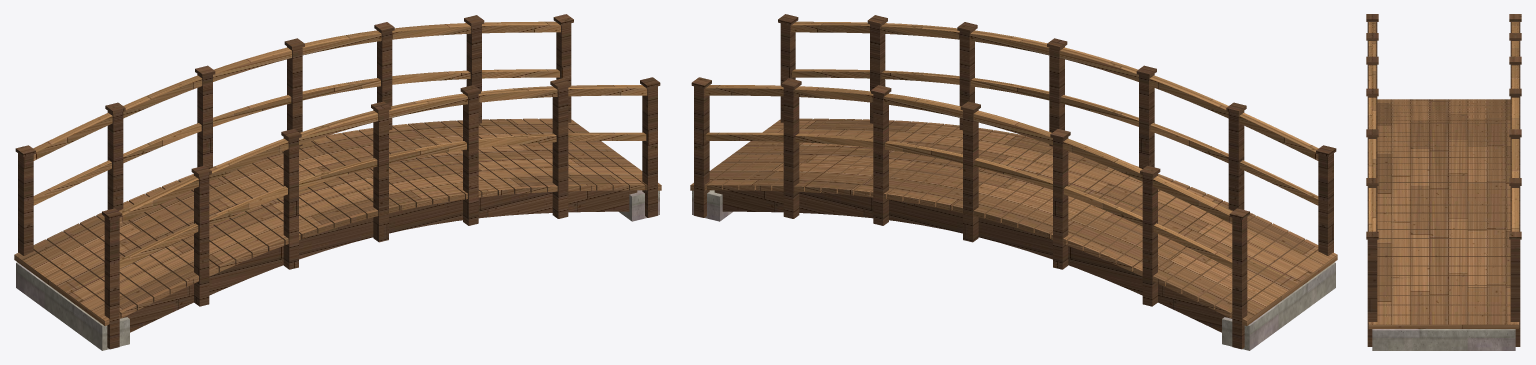
File: bridge.glb
The picture shows the model from 3 angles, left to right: view 1: azimuth 30°, elevation 25°; view 2: azimuth 150°, elevation 25°; view 3: azimuth 270°, elevation 25°; orthographic projection. The views are drawn at different scales.
Parts seen in each view (by area): view 1: bridge_deck, bridge_dkwood, bridge_wood, bridge_stone; view 2: bridge_deck, bridge_dkwood, bridge_wood, bridge_stone; view 3: bridge_deck, bridge_dkwood, bridge_stone, bridge_wood.
Boxes of the visible parts, x1=… form: bridge_deck: x1=14, y1=118, x2=661, y2=325; bridge_dkwood: x1=15, y1=14, x2=660, y2=349; bridge_wood: x1=33, y1=21, x2=647, y2=268; bridge_stone: x1=16, y1=190, x2=659, y2=350; bridge_deck: x1=690, y1=118, x2=1337, y2=325; bridge_dkwood: x1=691, y1=14, x2=1336, y2=349; bridge_wood: x1=704, y1=21, x2=1318, y2=268; bridge_stone: x1=692, y1=190, x2=1335, y2=350; bridge_deck: x1=1368, y1=99, x2=1519, y2=328; bridge_dkwood: x1=1366, y1=14, x2=1521, y2=346; bridge_stone: x1=1372, y1=329, x2=1515, y2=350; bridge_wood: x1=1368, y1=22, x2=1519, y2=231.
Size of the model in its own units: 5.6 by 1.7 by 1.63.
Materials: 4 (4 with a texture image).
